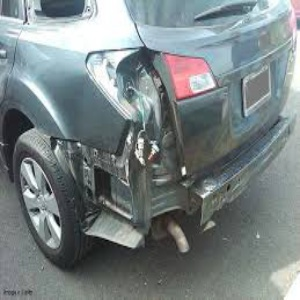bumper: (86, 133, 222, 254)
